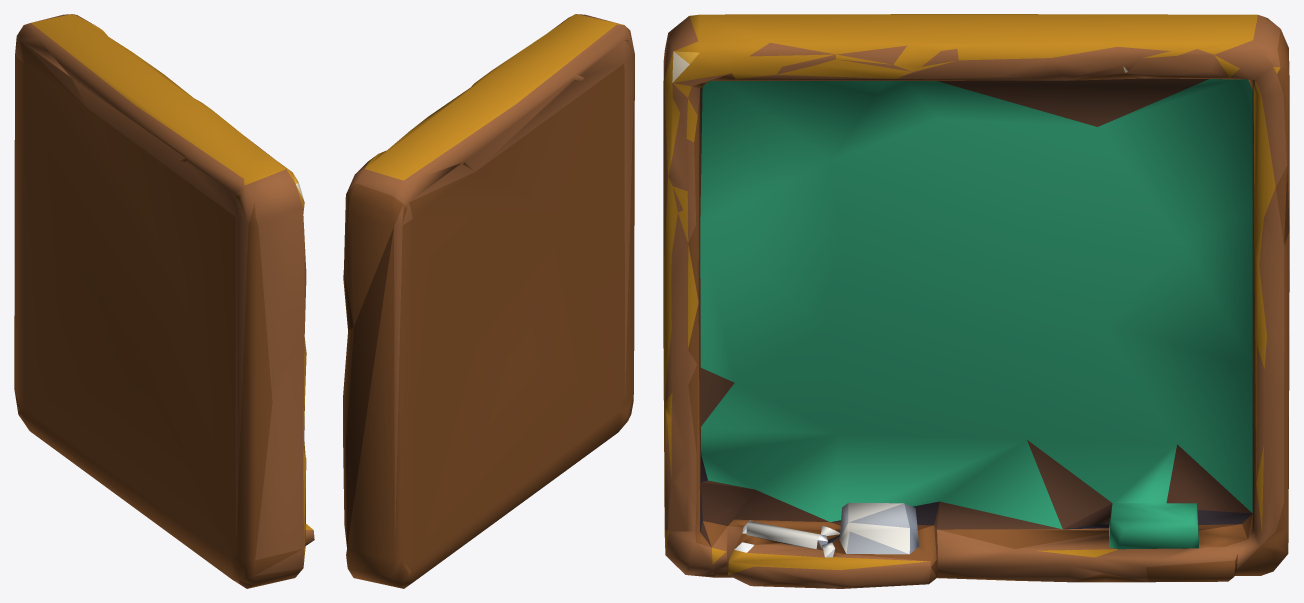
File: SM_chalkboard_easel.fbx
3 views of the same model, side by side, from view 1: azimuth 30°, elevation 25°; view 2: azimuth 150°, elevation 25°; view 3: azimuth 270°, elevation 25° (orthographic). The views are drawn at different scales.
Visible parts, largest first — view 1: SM_chalkboard_easel; view 2: SM_chalkboard_easel; view 3: SM_chalkboard_easel.
Part boxes in pixels (x1,y1,x2,y2): SM_chalkboard_easel: (14,14,314,588); SM_chalkboard_easel: (343,14,634,588); SM_chalkboard_easel: (663,14,1289,588).
Size of the model in its own units: 32.44 by 120 by 128.
1 material, 1 textured.
